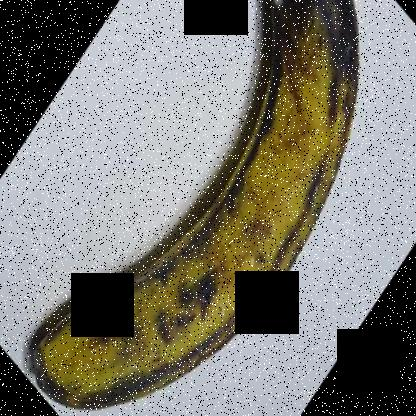overripe: (11, 1, 372, 416)
rotten: (211, 1, 359, 112)
